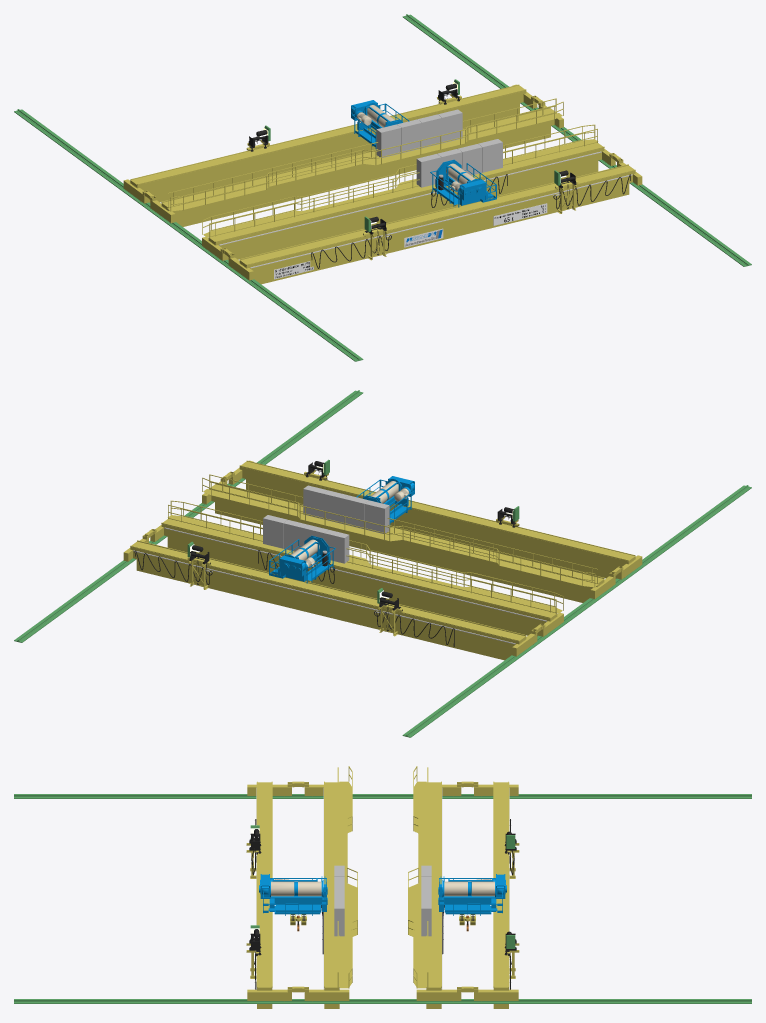
Rendered from Cavern Crans.fbx.
3 views of the same model, one above another, from view 1: azimuth 30°, elevation 25°; view 2: azimuth 150°, elevation 25°; view 3: azimuth 270°, elevation 25° (orthographic). The views are drawn at different scales.
Parts seen in each view (by area): view 1: !Cranes, !Banner; view 2: !Cranes; view 3: !Cranes.
Part boxes in pixels (box(x1,y1,x2,y2)): !Cranes: box(14, 14, 751, 361); !Banner: box(274, 203, 547, 279); !Cranes: box(14, 390, 751, 737); !Cranes: box(14, 766, 751, 1008).
Size of what is drawn, in the model's own units: 2930 by 341 by 4366.
